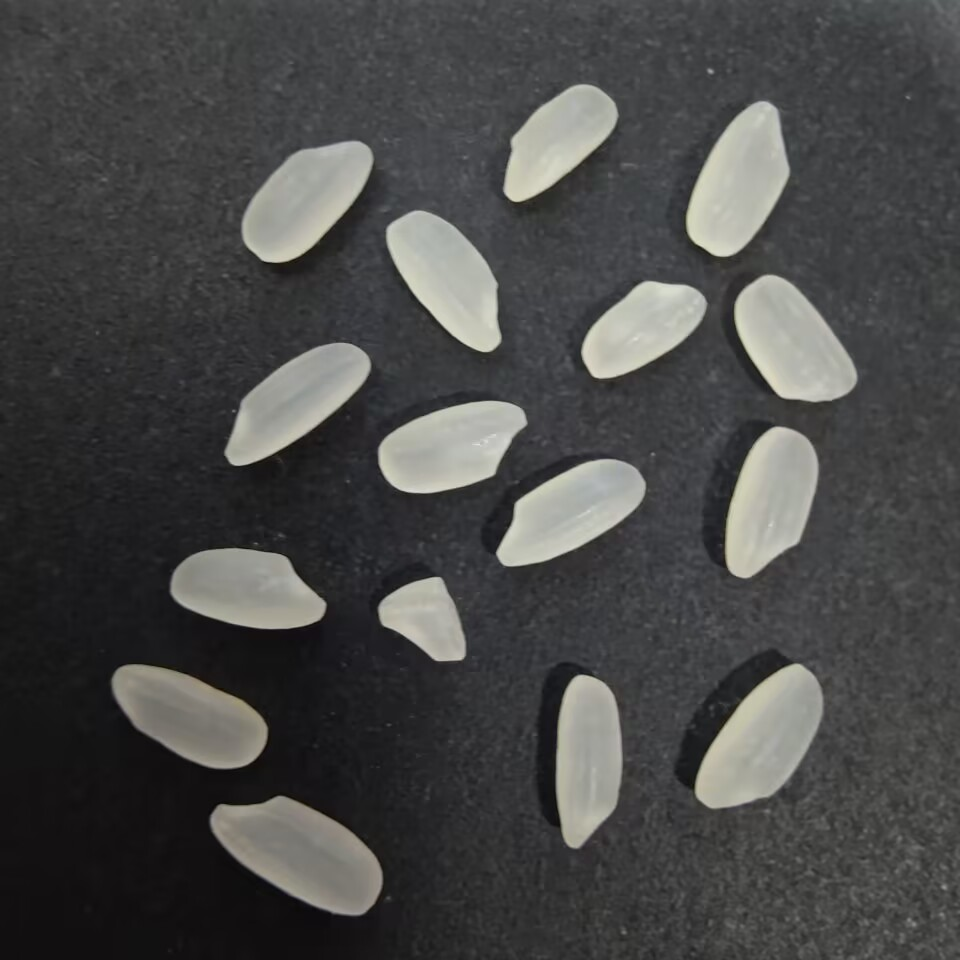broken: (371, 570, 470, 672)
rice: (202, 792, 388, 926), (691, 655, 830, 813), (219, 339, 375, 473), (106, 662, 277, 773), (383, 206, 507, 358), (727, 272, 859, 414), (492, 455, 650, 572), (238, 136, 379, 267), (681, 98, 795, 259), (719, 423, 823, 581), (374, 396, 531, 499), (158, 543, 335, 633), (496, 81, 623, 205), (549, 667, 628, 854), (577, 275, 709, 383)
